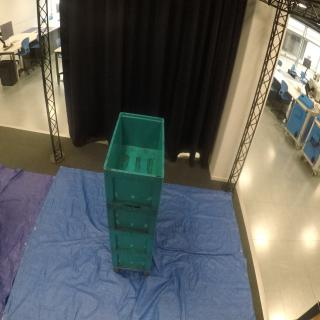BoxB4: (103, 110, 167, 207), (106, 203, 161, 237), (107, 227, 158, 258), (108, 247, 156, 275)
